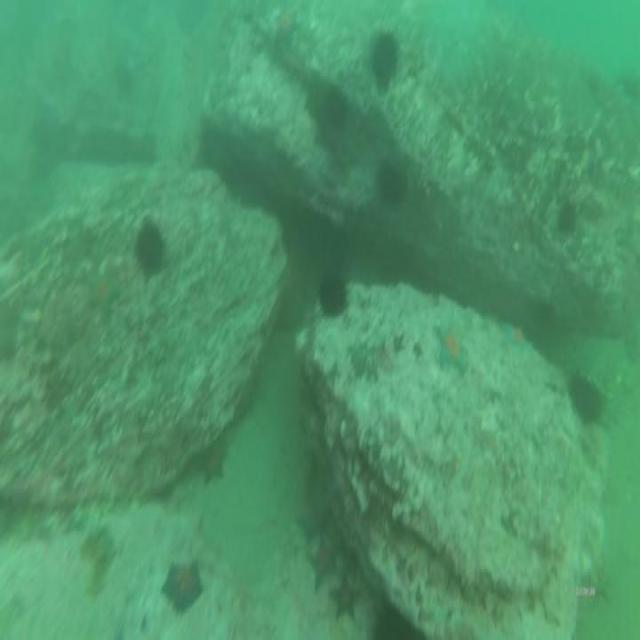echinus: (131, 214, 169, 282), (570, 366, 604, 432), (368, 29, 404, 90), (315, 262, 352, 321), (375, 156, 411, 212), (554, 199, 578, 236)
starfish: (160, 556, 207, 618), (81, 264, 121, 319), (432, 321, 469, 374), (306, 540, 341, 590), (294, 498, 332, 540), (331, 572, 361, 624), (196, 442, 228, 488), (500, 318, 529, 357), (271, 8, 302, 44)
